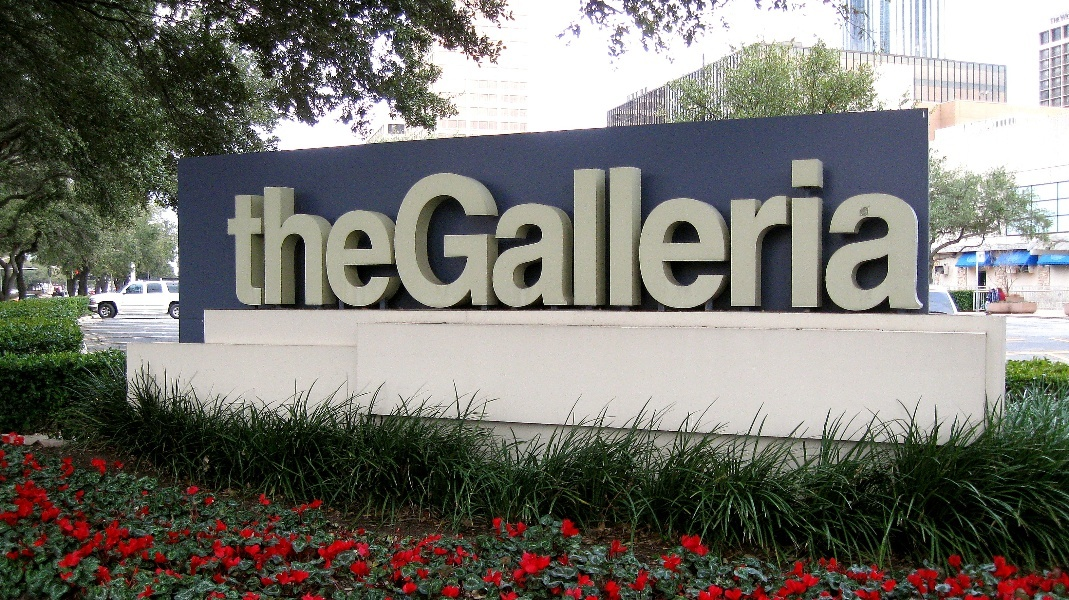text: (241, 155, 256, 313), (257, 155, 272, 313), (273, 155, 288, 313), (289, 155, 304, 313), (305, 155, 320, 313), (321, 155, 336, 313), (337, 155, 352, 313), (353, 155, 368, 313), (369, 155, 384, 313), (385, 155, 400, 313), (401, 155, 416, 313), (417, 155, 432, 313), (433, 155, 448, 313), (449, 155, 464, 313), (465, 155, 480, 313), (481, 155, 496, 313), (497, 155, 512, 313), (513, 155, 528, 313), (529, 155, 544, 313), (545, 155, 560, 313), (561, 155, 576, 313), (577, 155, 592, 313), (593, 155, 608, 313), (609, 155, 624, 313), (625, 155, 640, 313), (641, 155, 656, 313), (657, 155, 672, 313), (673, 155, 688, 313), (689, 155, 704, 313), (705, 155, 720, 313), (721, 155, 736, 313), (737, 155, 752, 313), (753, 155, 768, 313), (769, 155, 784, 313), (785, 155, 800, 313), (801, 155, 816, 313), (817, 155, 832, 313), (833, 155, 848, 313), (849, 155, 864, 313), (865, 155, 880, 313), (881, 155, 896, 313), (897, 155, 912, 313), (226, 155, 240, 313), (913, 155, 927, 313), (1060, 12, 1069, 22), (1050, 17, 1056, 25), (979, 287, 992, 290), (1057, 17, 1060, 25)
